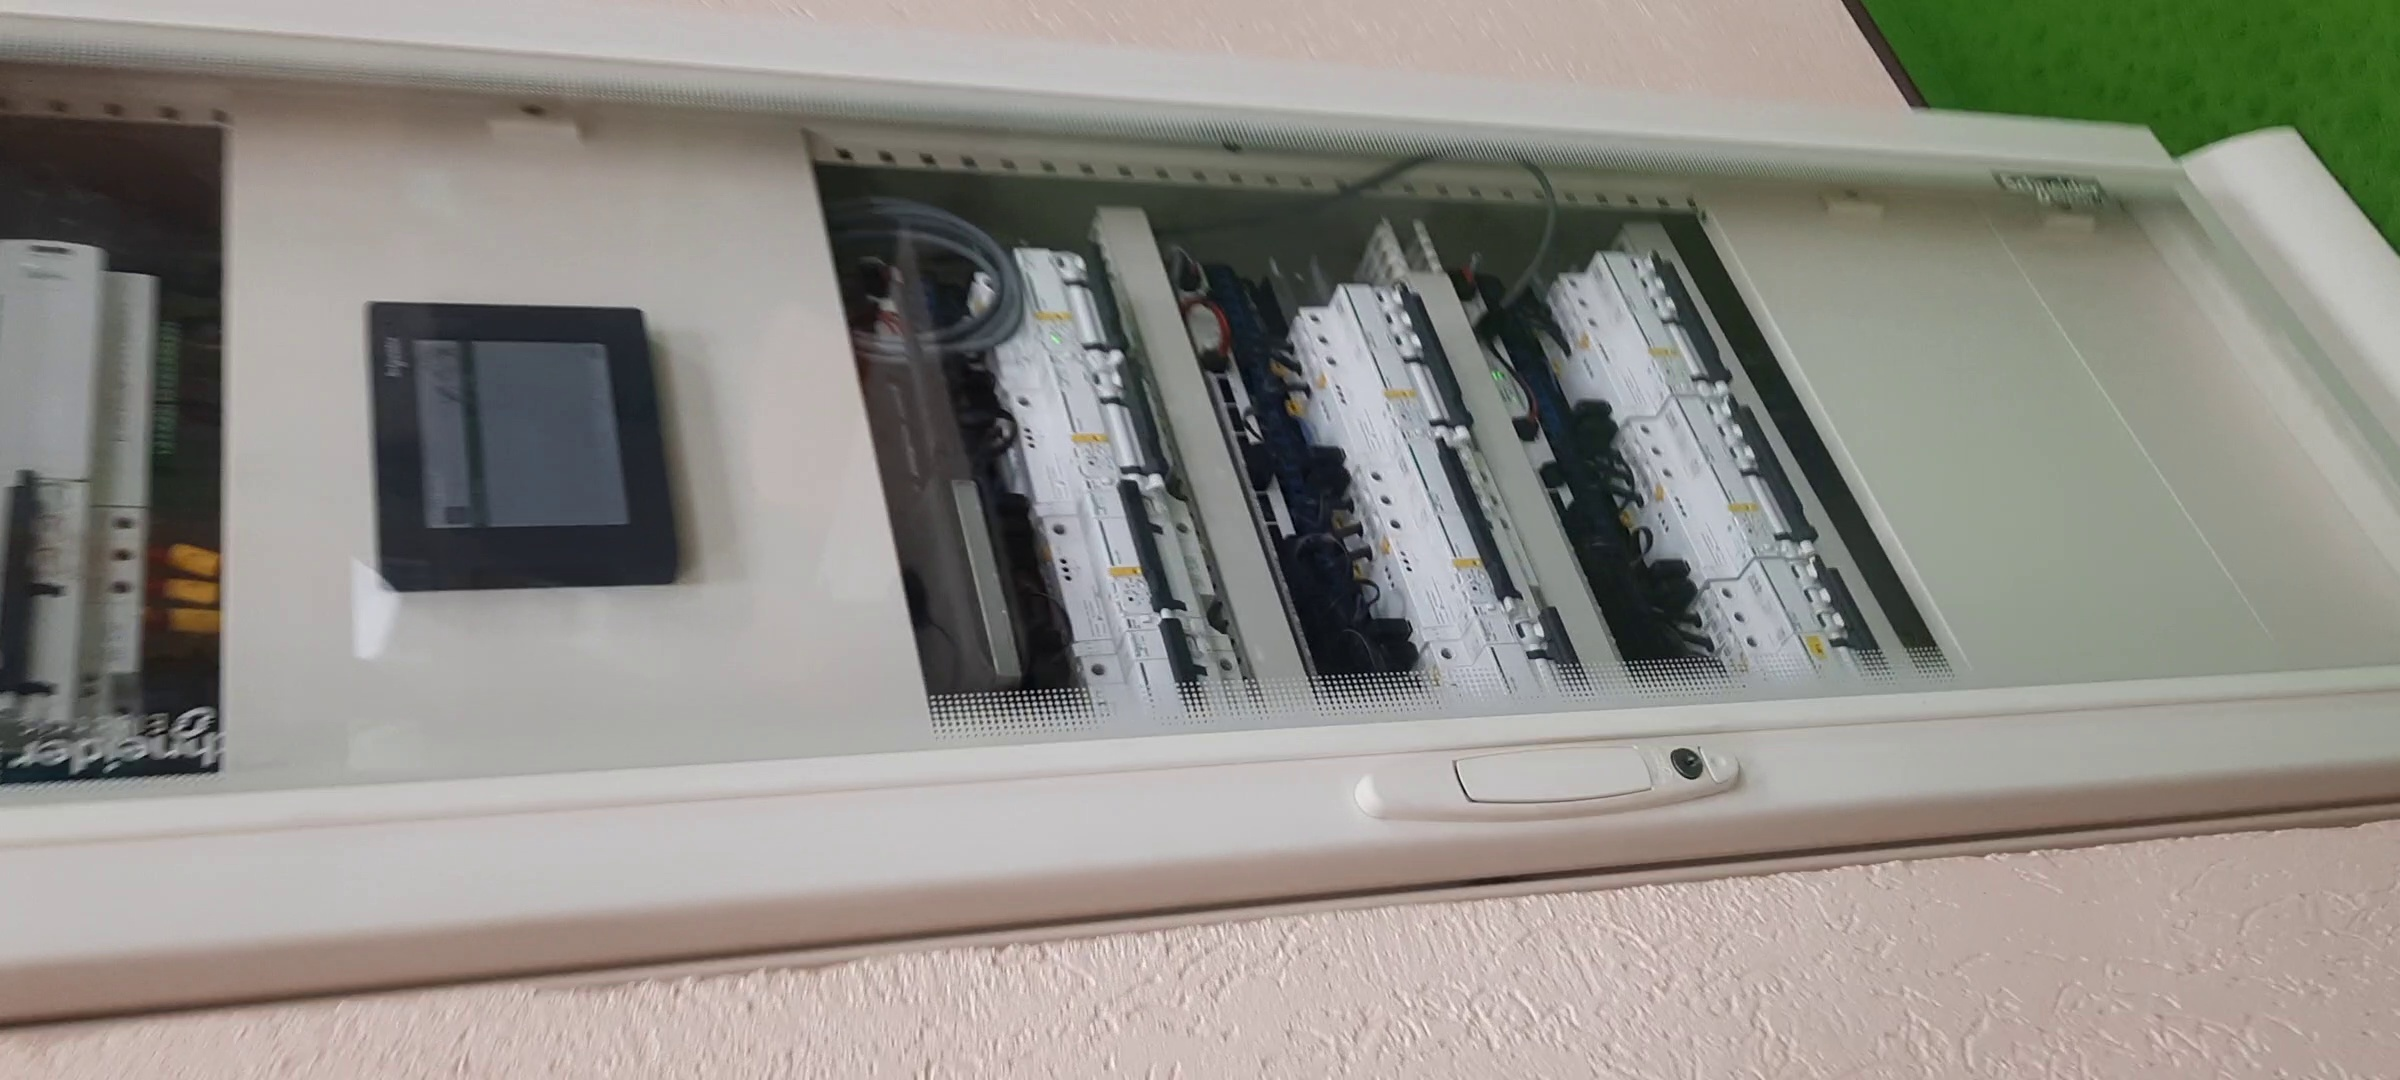smart_stand: (2, 43, 2400, 985)
